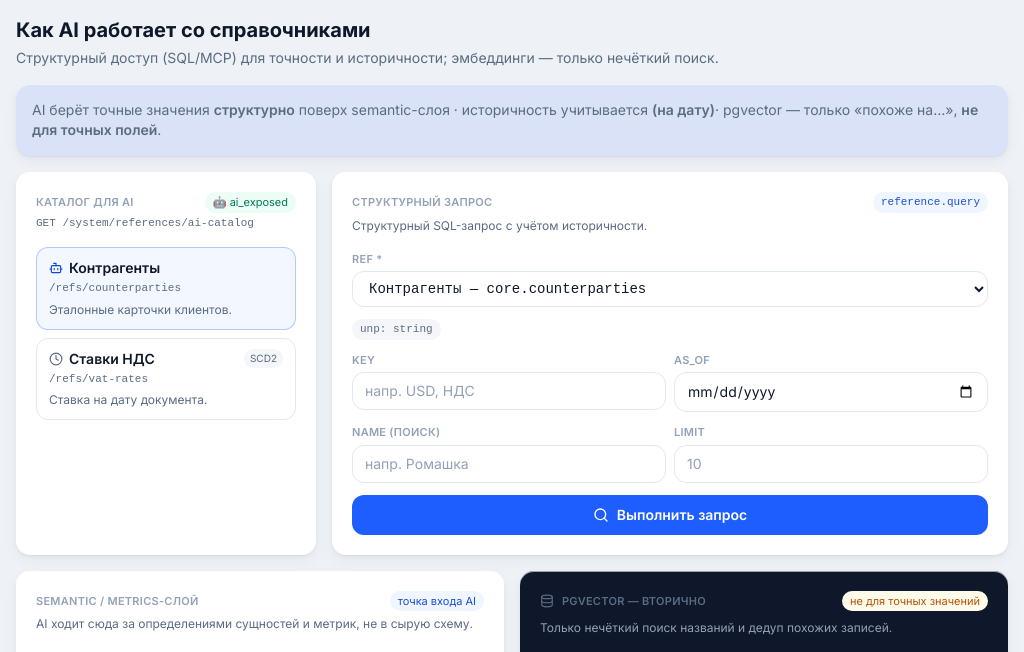
Scenario: SpravAi › сбой запроса (null) показывает ошибку, а не молча пустоту
The width and height of the screenshot is (1024, 652).
Click the button "Выполнить запрос": click(670, 514) left=352, top=494, right=988, bottom=534
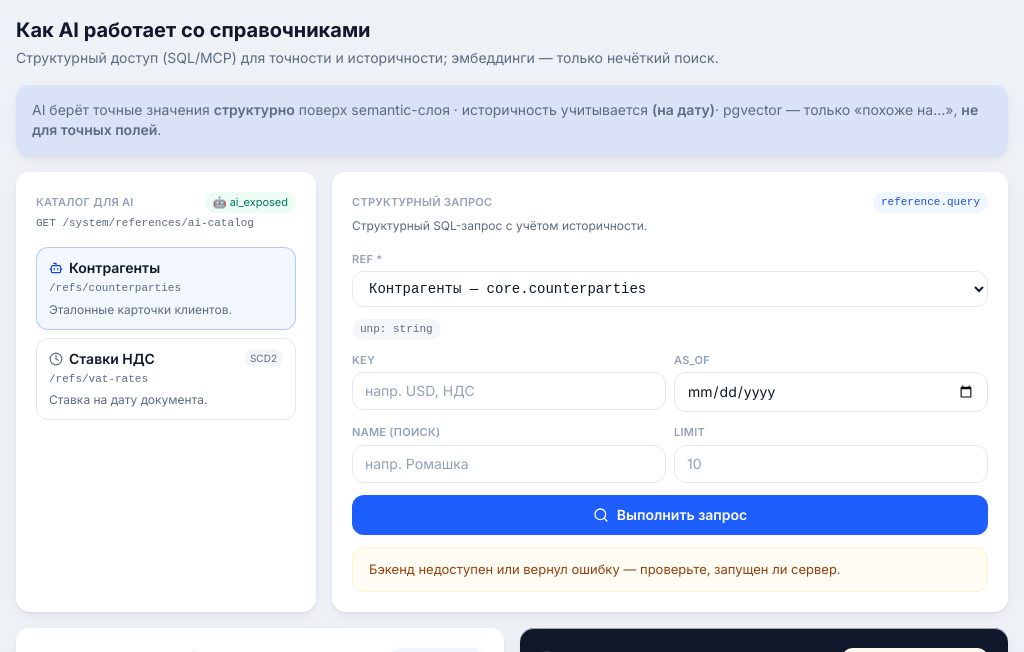
Result: the text "Бэкенд недоступен или вернул ошибку" is shown at left=369, top=560, right=841, bottom=576
